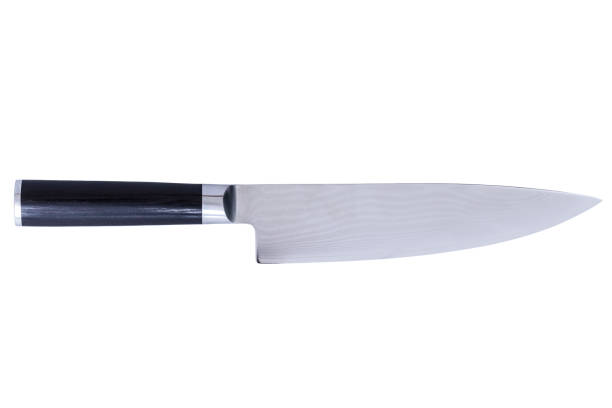knife: (12, 179, 602, 267)
